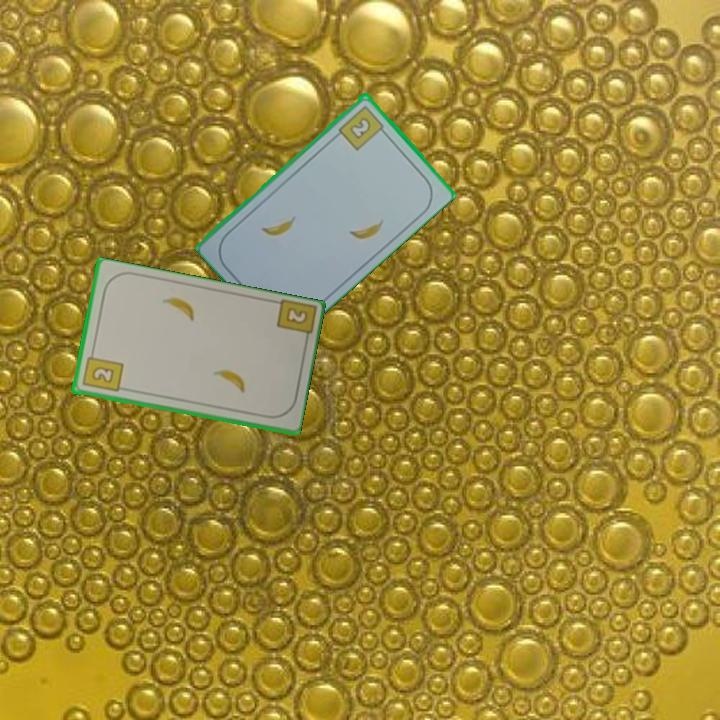2b: (335, 102, 389, 153), (273, 297, 317, 348), (79, 348, 125, 395)
